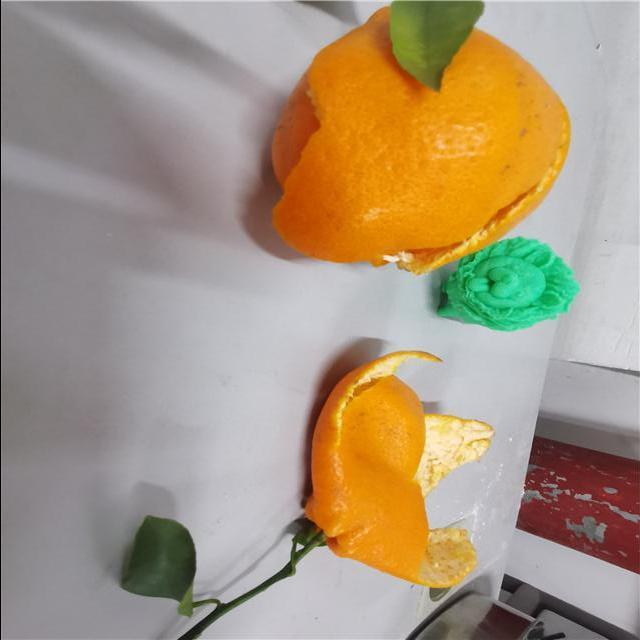orange peel: (264, 3, 572, 277), (296, 342, 498, 593)
